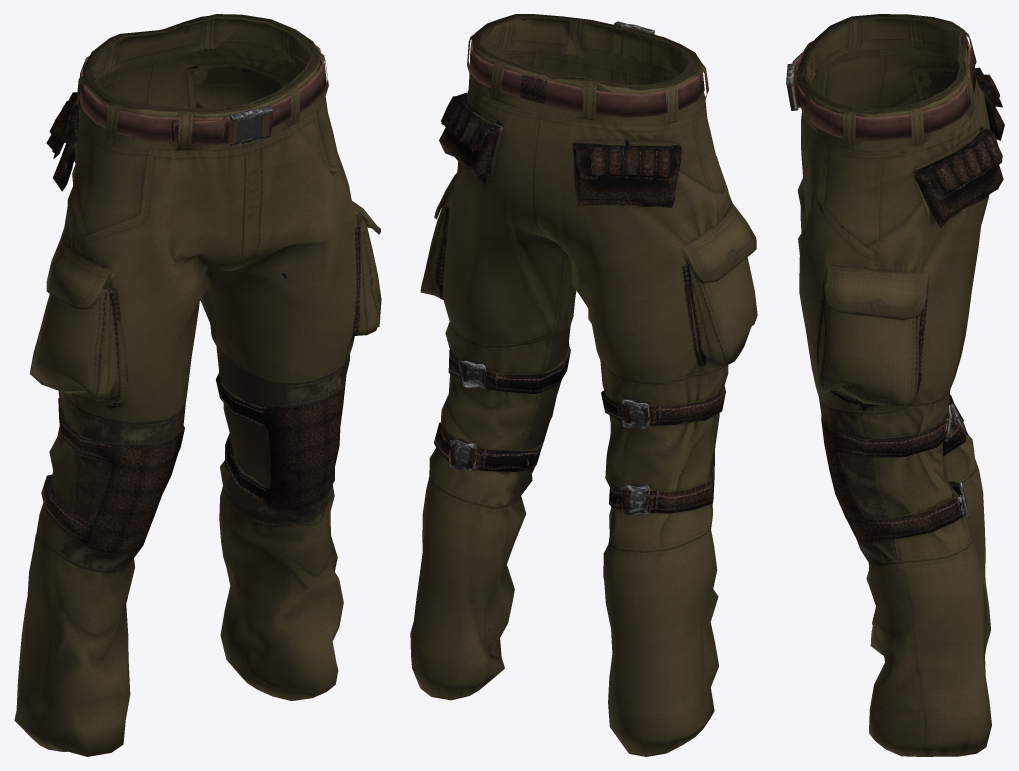
The picture shows the model from 3 angles, left to right: view 1: azimuth 30°, elevation 25°; view 2: azimuth 150°, elevation 25°; view 3: azimuth 270°, elevation 25°; orthographic projection. The views are drawn at different scales.
Parts seen in each view (by area): view 1: shtany_low.006; view 2: shtany_low.006; view 3: shtany_low.006.
Part boxes in pixels (left/top/right/bottom): shtany_low.006: left=14, top=14, right=381, bottom=756; shtany_low.006: left=410, top=14, right=757, bottom=756; shtany_low.006: left=786, top=14, right=1004, bottom=756.
Bounding box in the file's own units: 52.75 × 106 × 32.22.
1 material, 1 textured.
